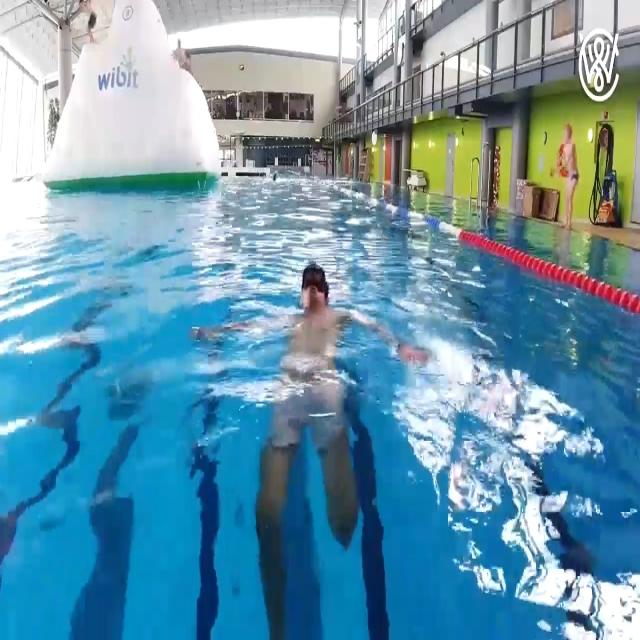Swimming: (281, 260, 343, 382)
